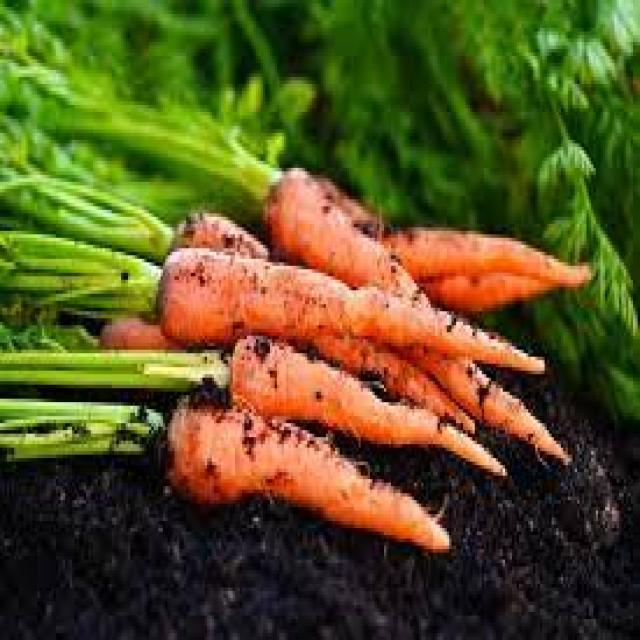Carrot: (159, 254, 543, 360)
